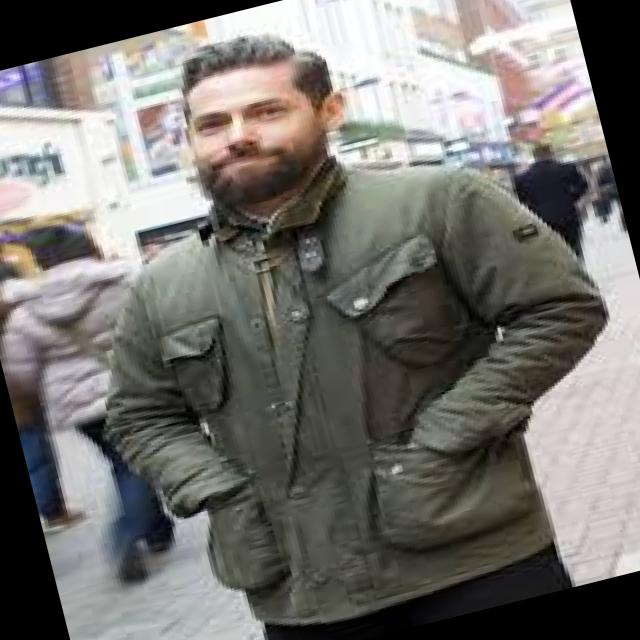Jacket: (68, 123, 640, 640)
